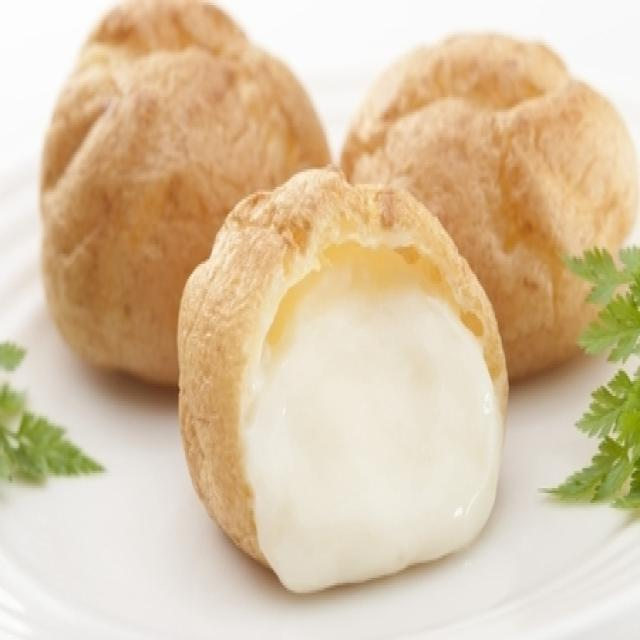炸货点心: (26, 5, 628, 595)
蛋糕甜品: (26, 5, 628, 595)
